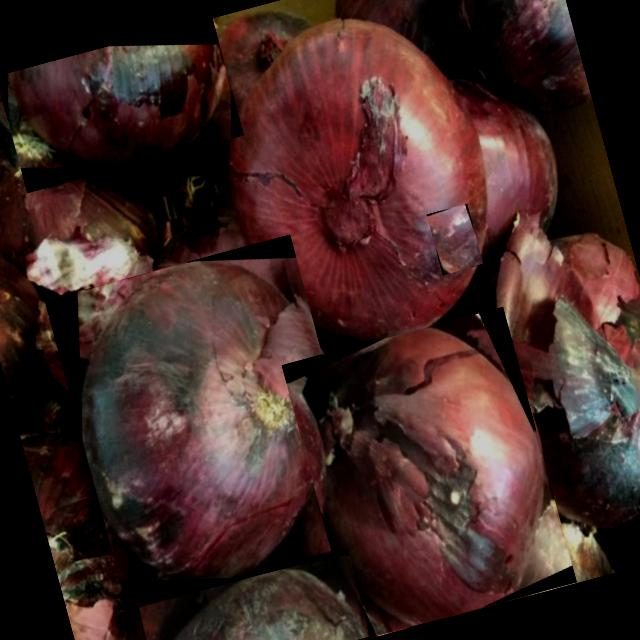rotten: (82, 261, 331, 580), (322, 326, 544, 624), (9, 43, 226, 166), (175, 570, 367, 640), (426, 203, 484, 275)
